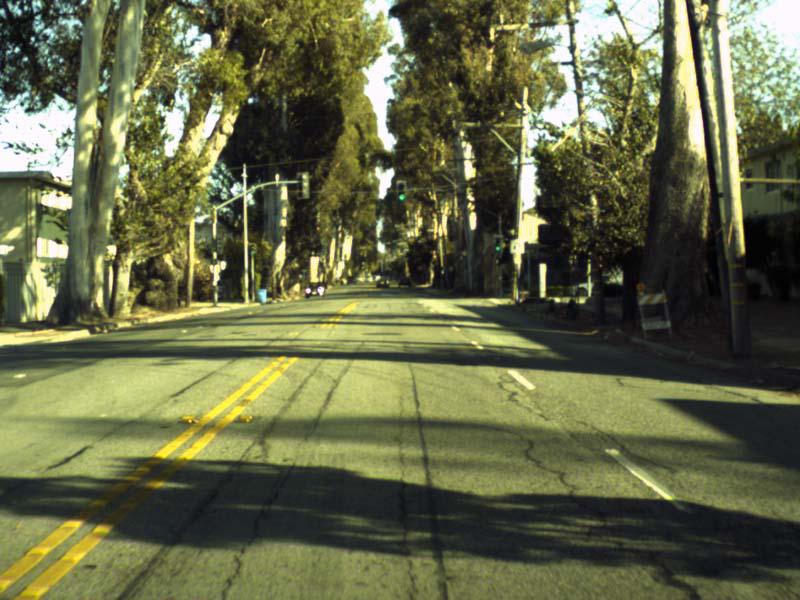Green: (397, 182, 405, 201)
